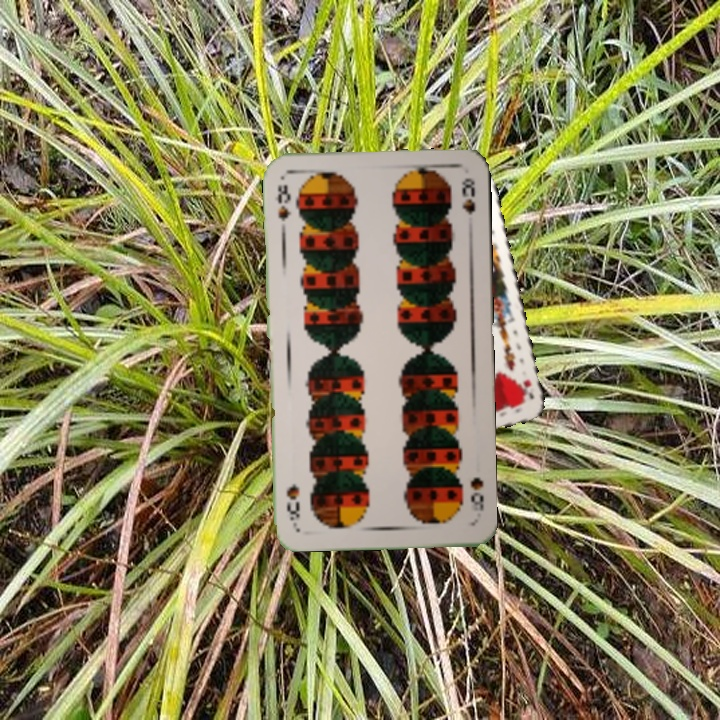HK: (516, 375, 536, 402)
S8: (273, 180, 294, 223), (466, 473, 487, 514)
